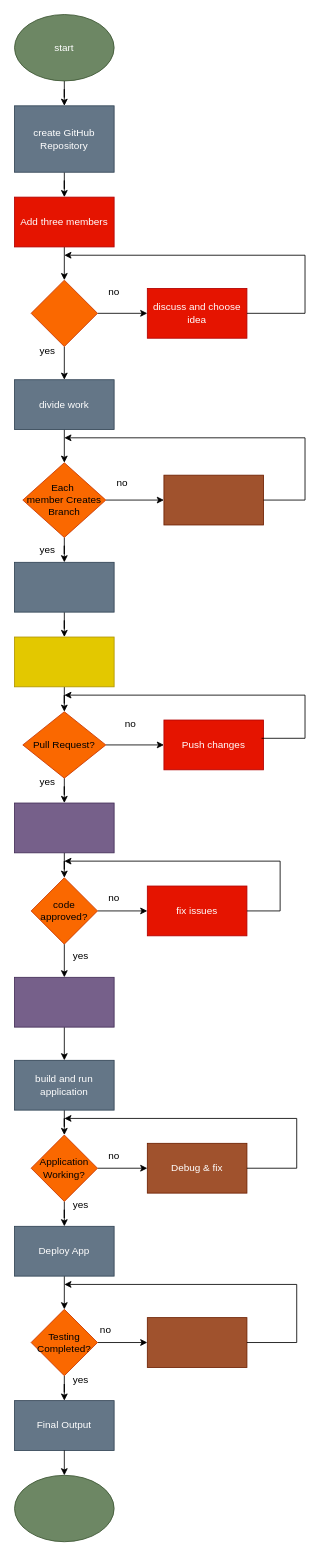
This 326x1556 diagram has some shape labels left out. Here are the shapes that lost their labels. From the top down, the box of each, then its label:
(30, 279, 98, 347): Project idea finalized?
(163, 474, 264, 525): Create branch
(14, 561, 114, 612): start coding
(14, 636, 114, 687): Push code to GitHub
(14, 802, 114, 853): Code review
(14, 976, 114, 1027): Merge to main
(146, 1317, 247, 1367): Re-test
(14, 1474, 114, 1542): End
